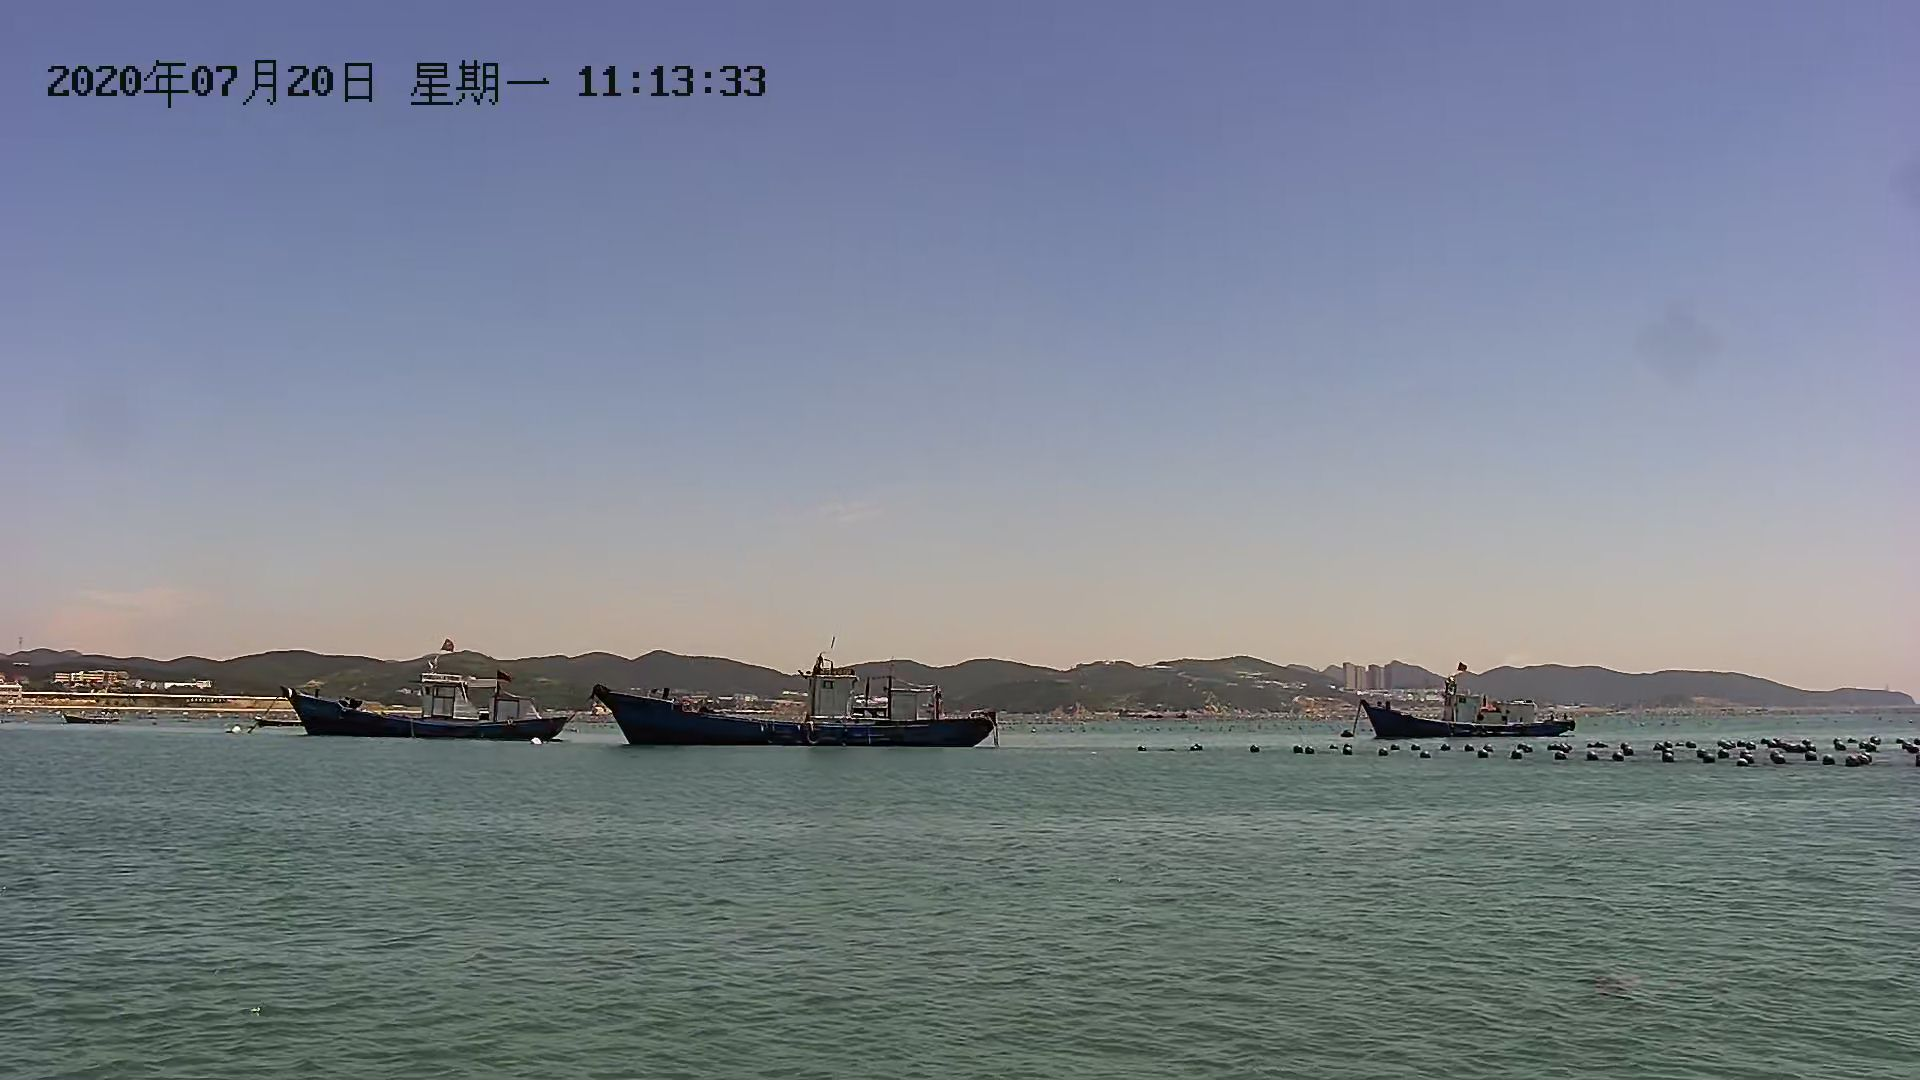boat: (592, 686, 1014, 756), (284, 673, 568, 746), (1366, 694, 1586, 742)
